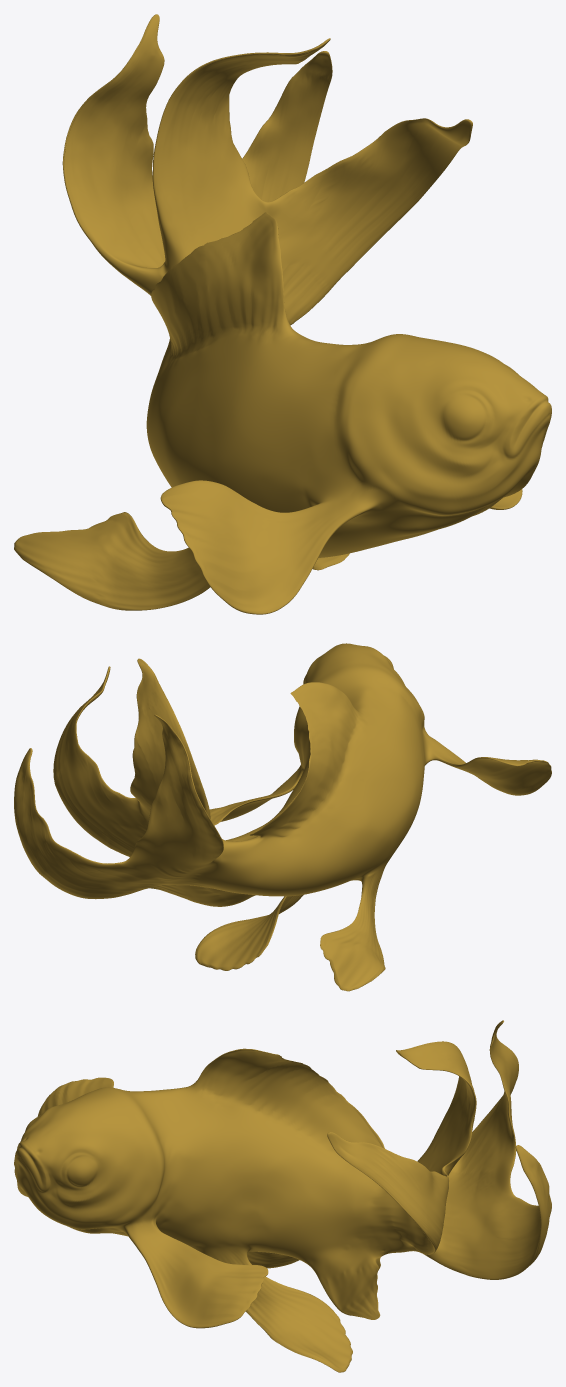
The model's file is Fishka_2.fbx.
3 renders of one model, top to bottom at view 1: azimuth 30°, elevation 25°; view 2: azimuth 150°, elevation 25°; view 3: azimuth 270°, elevation 25°, orthographic. The views are drawn at different scales.
Visible parts, largest first — view 1: G_Fish67; view 2: G_Fish67; view 3: G_Fish67.
Part boxes in pixels (<box>): G_Fish67: <box>14,14,551,614</box>; G_Fish67: <box>14,643,551,991</box>; G_Fish67: <box>14,1020,551,1372</box>.
Size of the model in its own units: 5.81 by 5.27 by 7.55.
